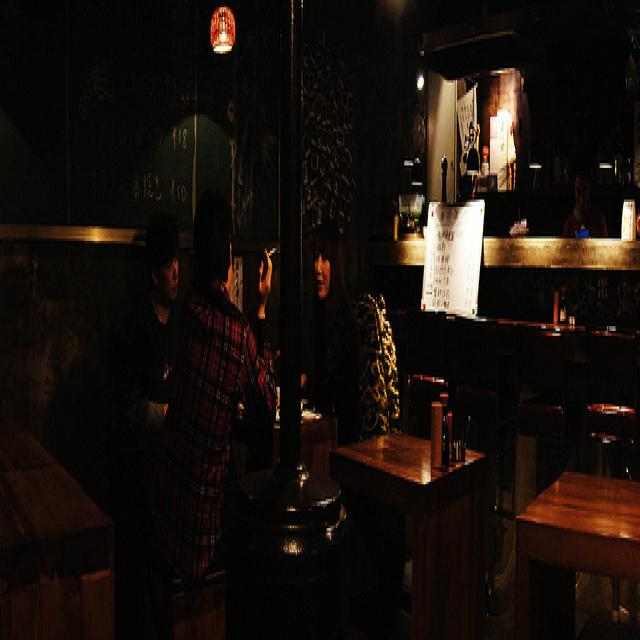People: (177, 203, 276, 580), (129, 172, 203, 432), (282, 221, 348, 434)
Table: (0, 326, 124, 640), (331, 399, 489, 564), (511, 417, 640, 613)
chair: (588, 367, 640, 477)
